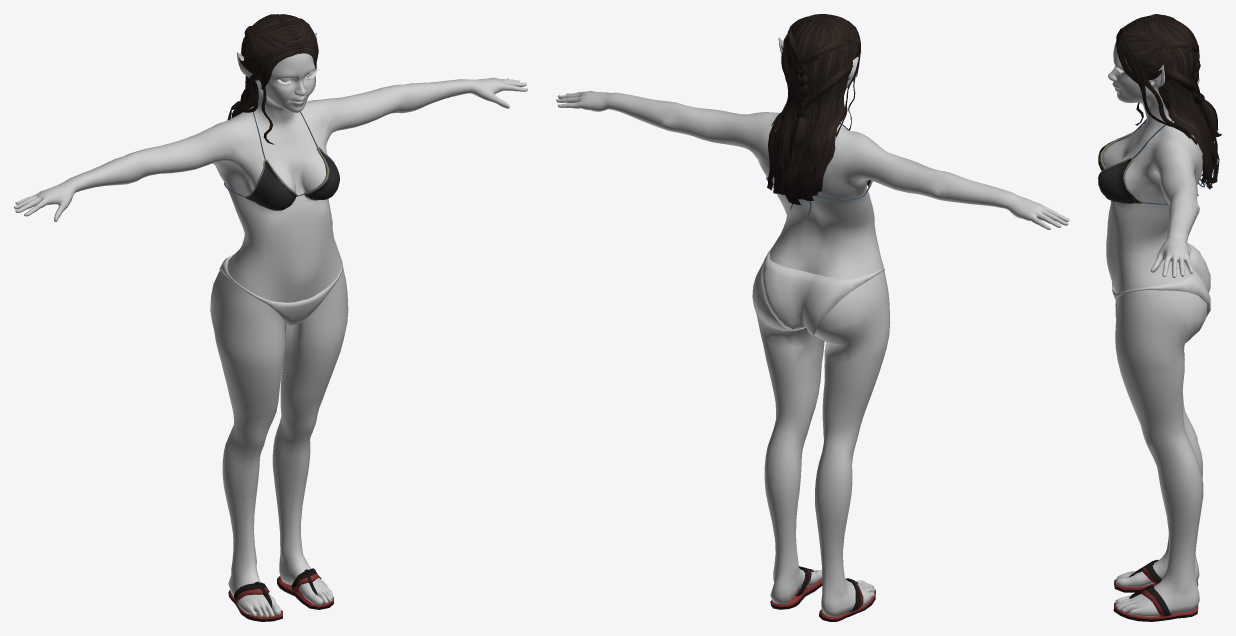
Rendered from elf.obj.
3 renders of one model, left to right at view 1: azimuth 30°, elevation 25°; view 2: azimuth 150°, elevation 25°; view 3: azimuth 270°, elevation 25°, orthographic.
Visible parts, largest first — view 1: Body, Hair, Tops, Shoes, Bottoms; view 2: Body, Hair, Bottoms, Shoes; view 3: Body, Hair, Tops, Bottoms, Shoes.
Part boxes in pixels (x1,y1,x2,y2): Body: [14, 33, 527, 617]; Hair: [227, 14, 318, 144]; Tops: [224, 106, 339, 210]; Shoes: [228, 568, 333, 621]; Bottoms: [219, 254, 342, 326]; Body: [556, 37, 1069, 616]; Hair: [767, 14, 860, 204]; Bottoms: [761, 247, 884, 335]; Shoes: [770, 566, 875, 621]; Body: [1103, 41, 1206, 616]; Hair: [1116, 14, 1221, 189]; Tops: [1098, 119, 1204, 204]; Bottoms: [1112, 242, 1210, 316]; Shoes: [1113, 559, 1198, 621].
Size of the model in its own units: 159 by 174 by 33.42.
